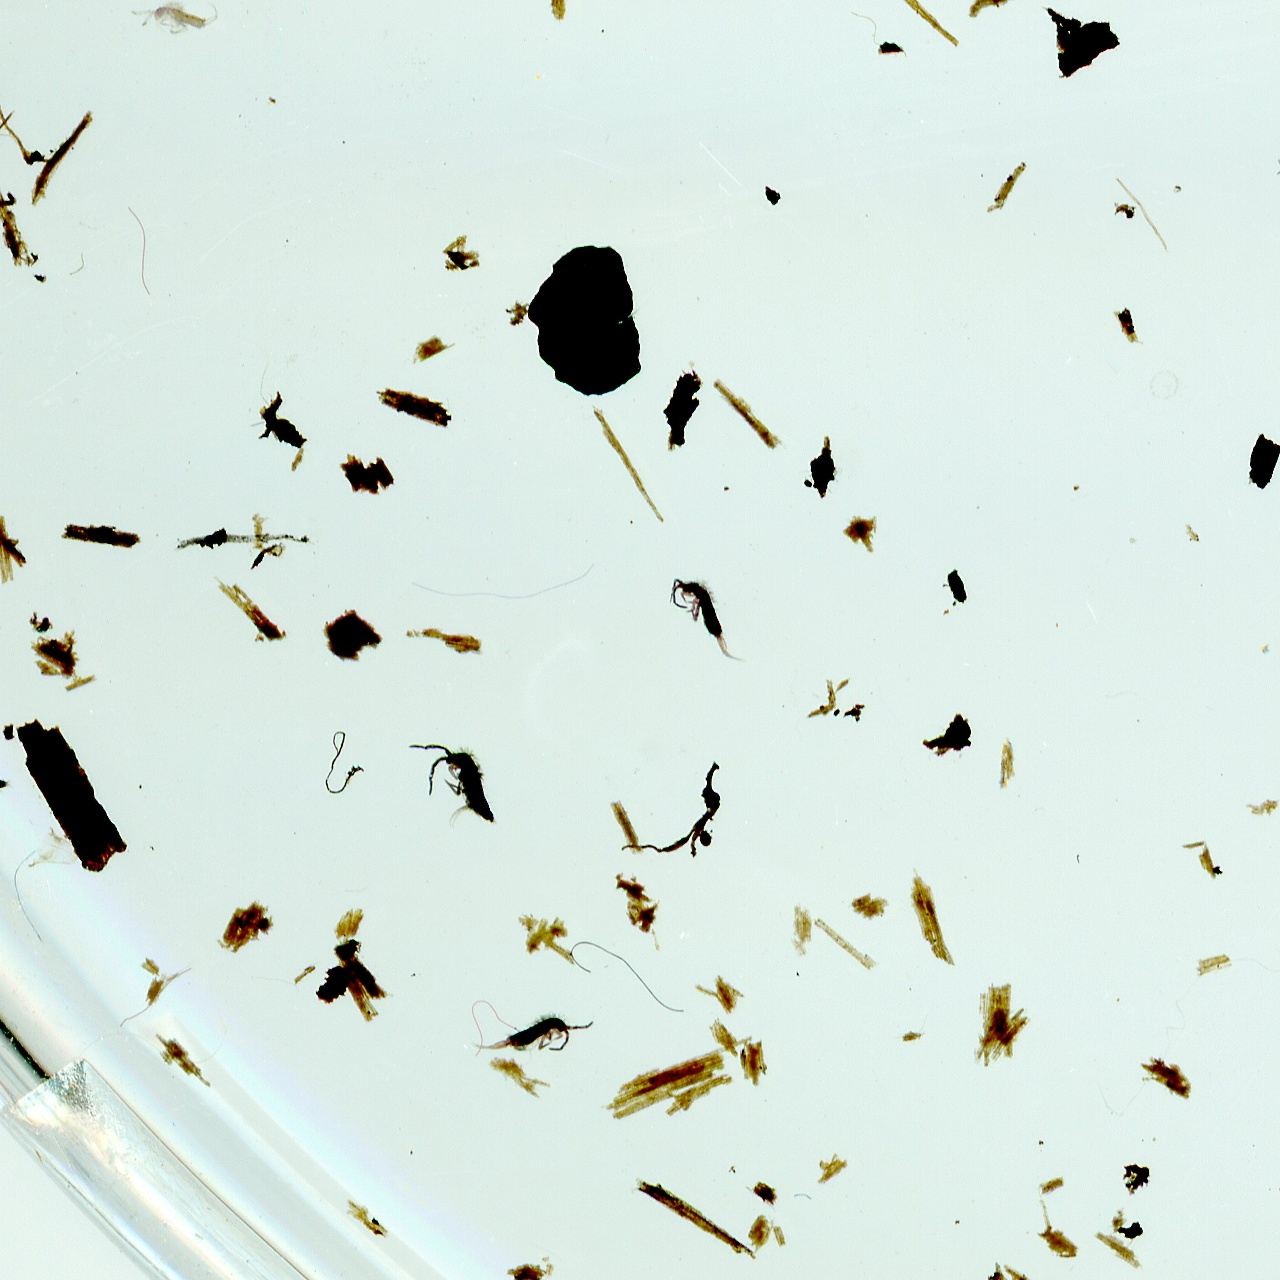arthropod: (652, 558, 760, 688), (402, 738, 504, 833), (467, 1006, 597, 1060), (127, 0, 224, 39), (1273, 138, 1280, 178)
